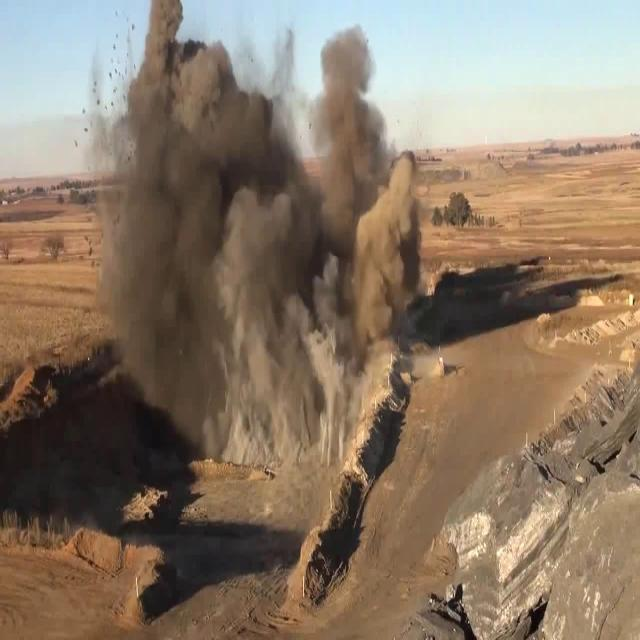explosion: (86, 0, 438, 499)
